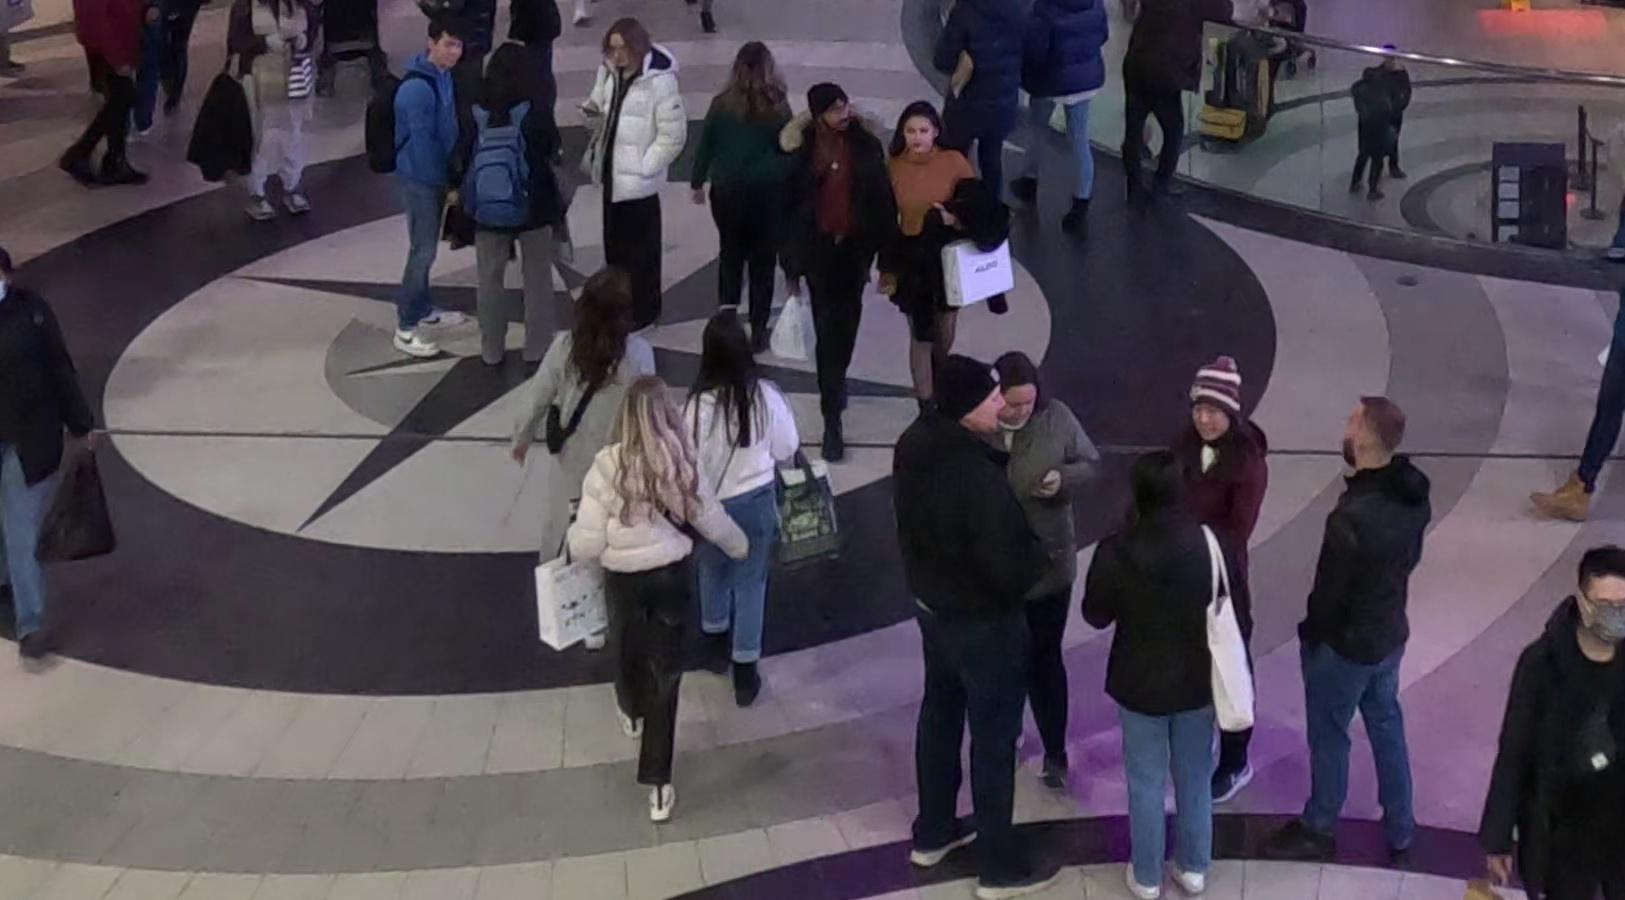person: (903, 350, 1068, 885), (1080, 439, 1243, 899), (1308, 385, 1450, 874), (592, 380, 719, 830), (681, 311, 822, 704), (1, 234, 114, 672), (1486, 545, 1618, 900), (771, 73, 883, 459), (520, 275, 658, 531), (1175, 351, 1285, 630), (883, 85, 992, 352)
